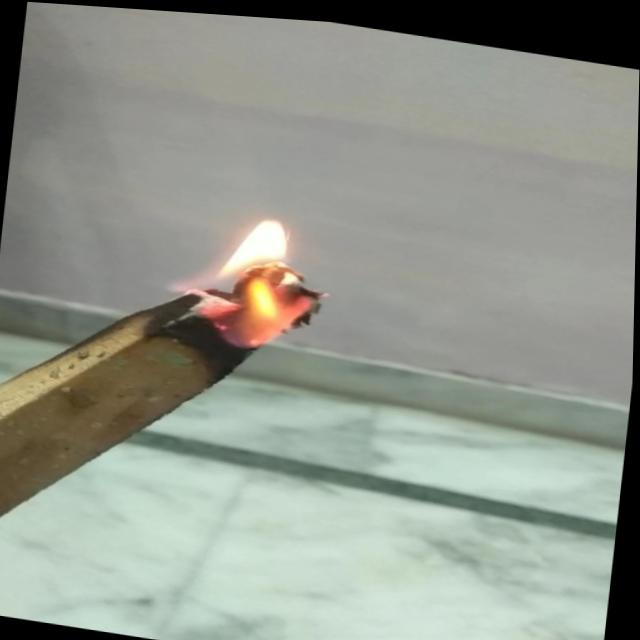fire: (183, 187, 344, 361)
